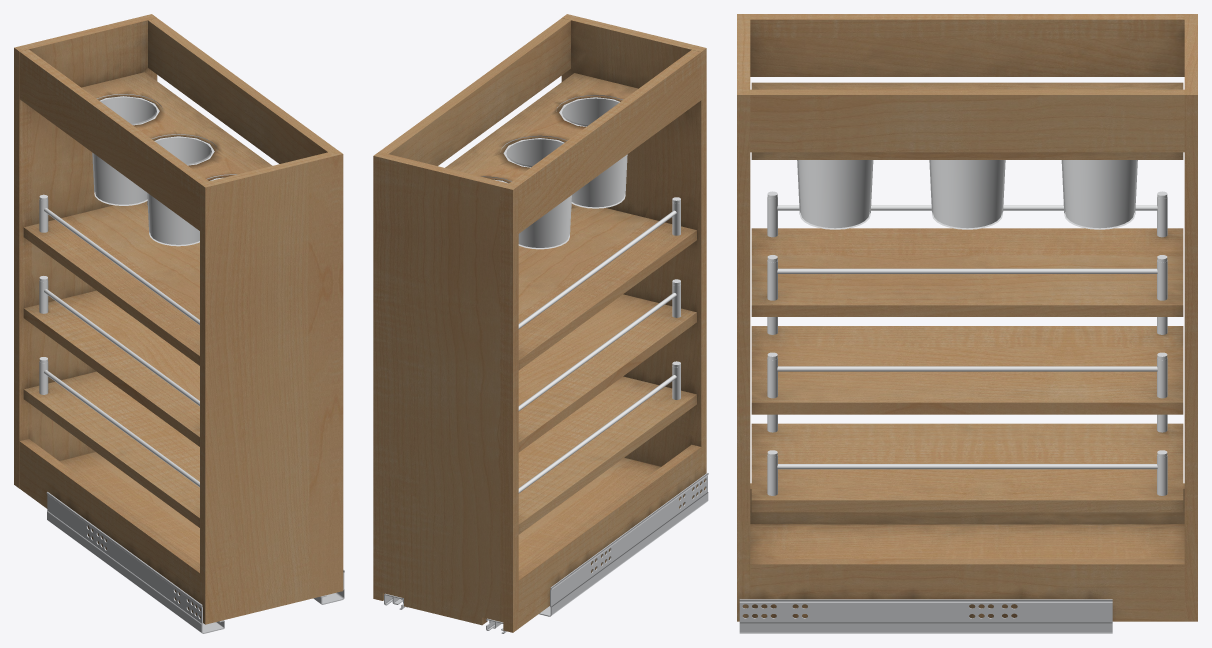
File: inserts-utensil-bin-pullout.glb
3 renders of one model, left to right at view 1: azimuth 30°, elevation 25°; view 2: azimuth 150°, elevation 25°; view 3: azimuth 270°, elevation 25°, orthographic. The views are drawn at different scales.
Parts seen in each view (by area): view 1: insert; view 2: insert; view 3: insert.
Part boxes in pixels (x1,y1,x2,y2): insert: (14, 14, 344, 633); insert: (373, 14, 708, 633); insert: (737, 14, 1197, 633).
Bounding box in the file's own units: 0.2408 × 0.7172 × 0.556.
Materials: 7 (1 with a texture image).
